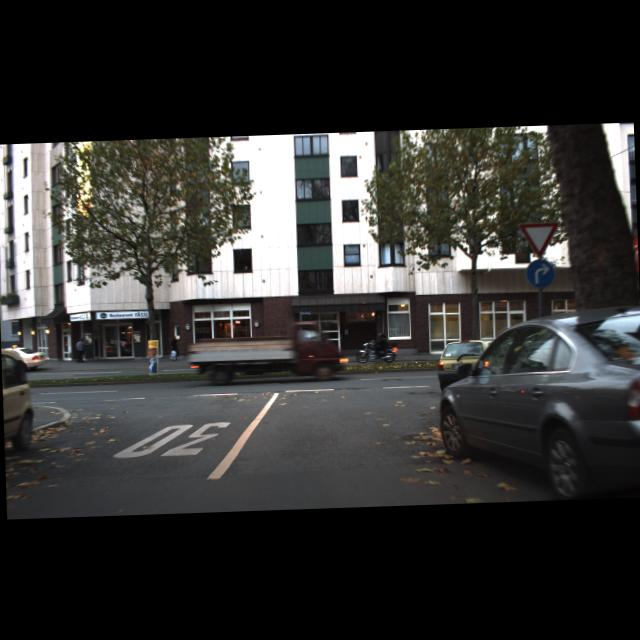mandatory: (525, 258, 554, 288)
other: (518, 221, 560, 258)
